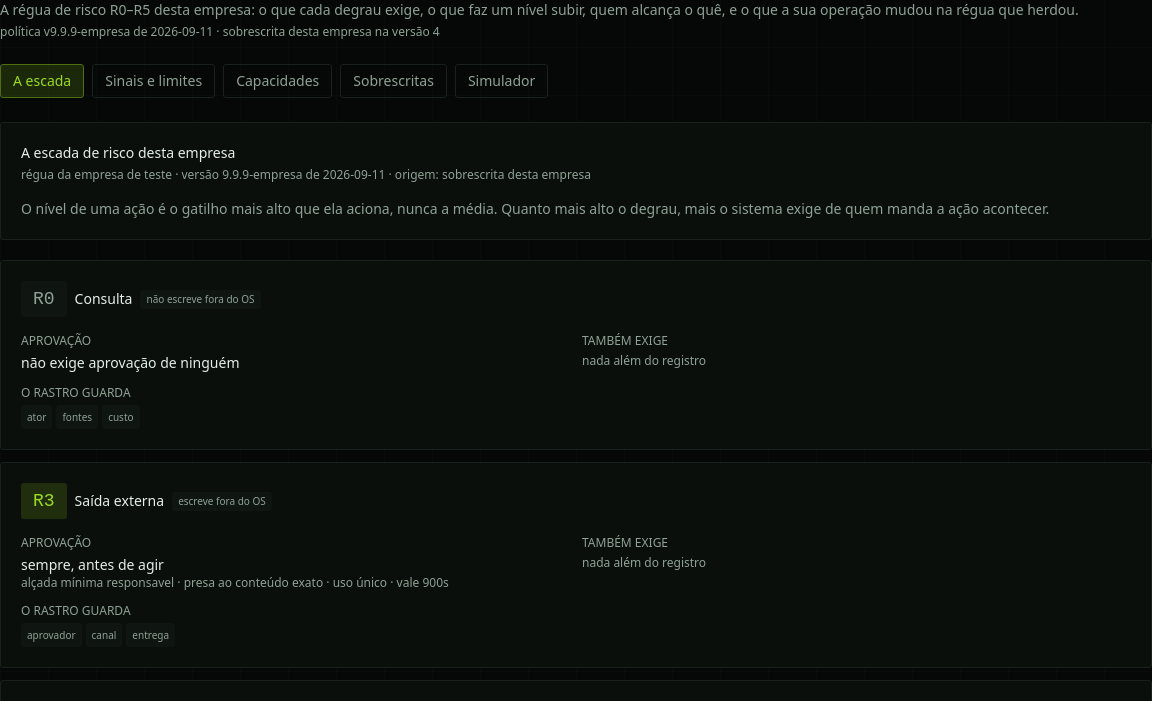
Test: a tela da Régua › avisa quando a janela horária desta empresa é ilegível
This screenshot has width=1152, height=701.
Click the button "Sinais e limites" at (154, 81), box [92, 64, 215, 98]
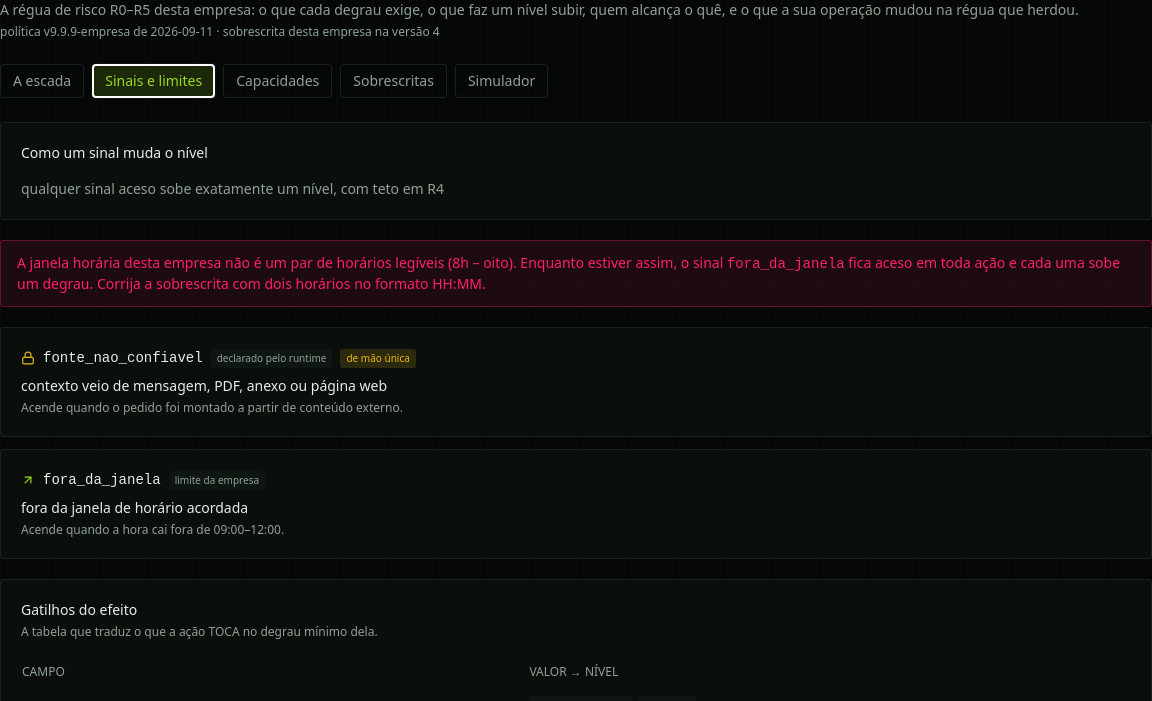
Expected: the text "fica aceso em toda ação" is shown, [17, 253, 1120, 293]
